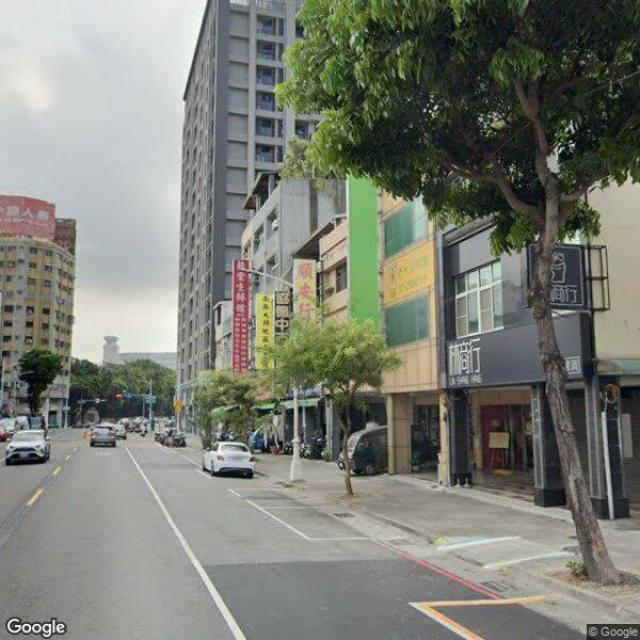Legalparking: (243, 406, 414, 474), (184, 426, 274, 490)
illegalparking: (86, 409, 152, 462)
